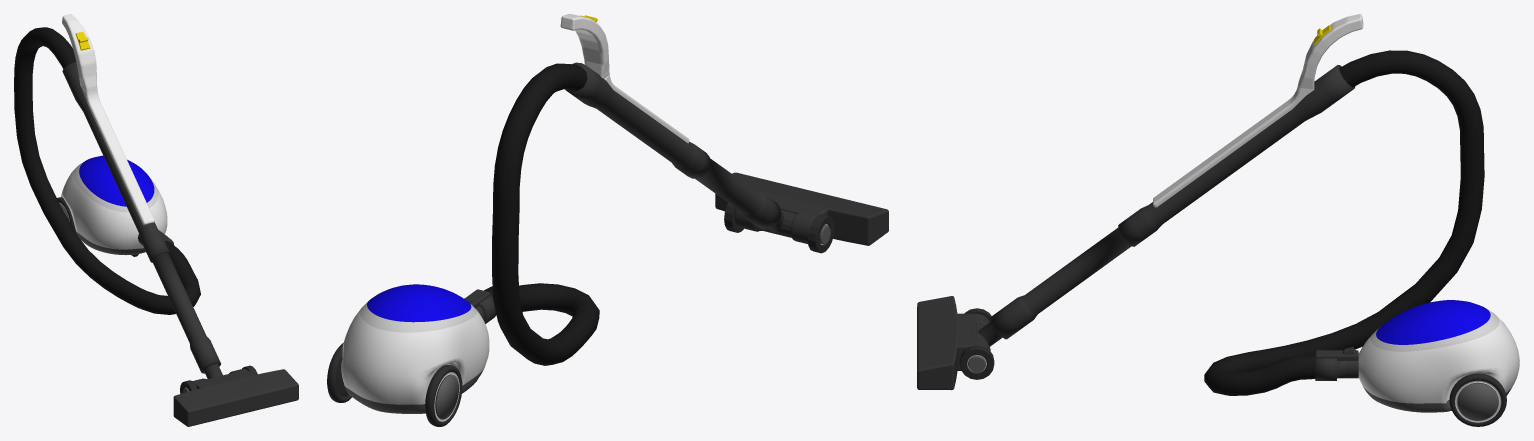
The model's file is retrosoujiki.fbx.
3 views of the same model, side by side, from view 1: azimuth 30°, elevation 25°; view 2: azimuth 150°, elevation 25°; view 3: azimuth 270°, elevation 25° (orthographic). The views are drawn at different scales.
Visible parts, largest first — view 1: sojiki; view 2: sojiki; view 3: sojiki.
Boxes of the visible parts, x1,y1,x2,y2 form: sojiki: [14, 14, 298, 426]; sojiki: [327, 14, 888, 426]; sojiki: [917, 14, 1519, 426].
Size of the model in its own units: 65.97 by 99.61 by 158.
